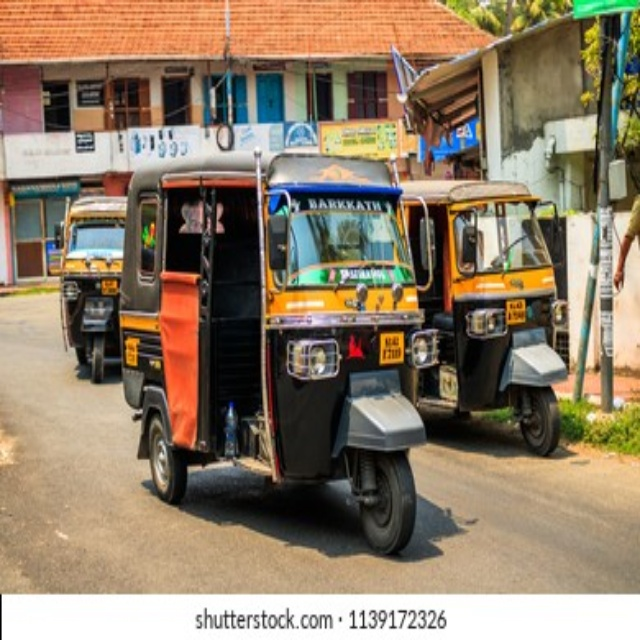Motorcycle: (118, 153, 433, 553), (399, 178, 571, 457), (56, 197, 128, 384)
